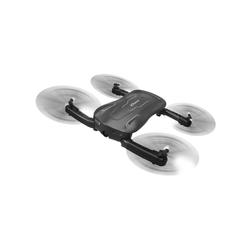drone: (34, 72, 217, 177)
